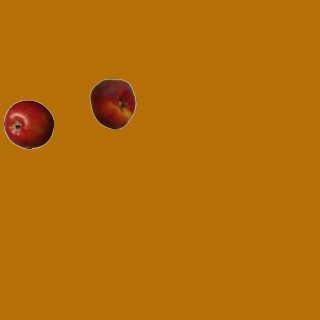Apple Braeburn: (3, 99, 53, 149)
Nectarine Flat: (87, 78, 137, 128)
